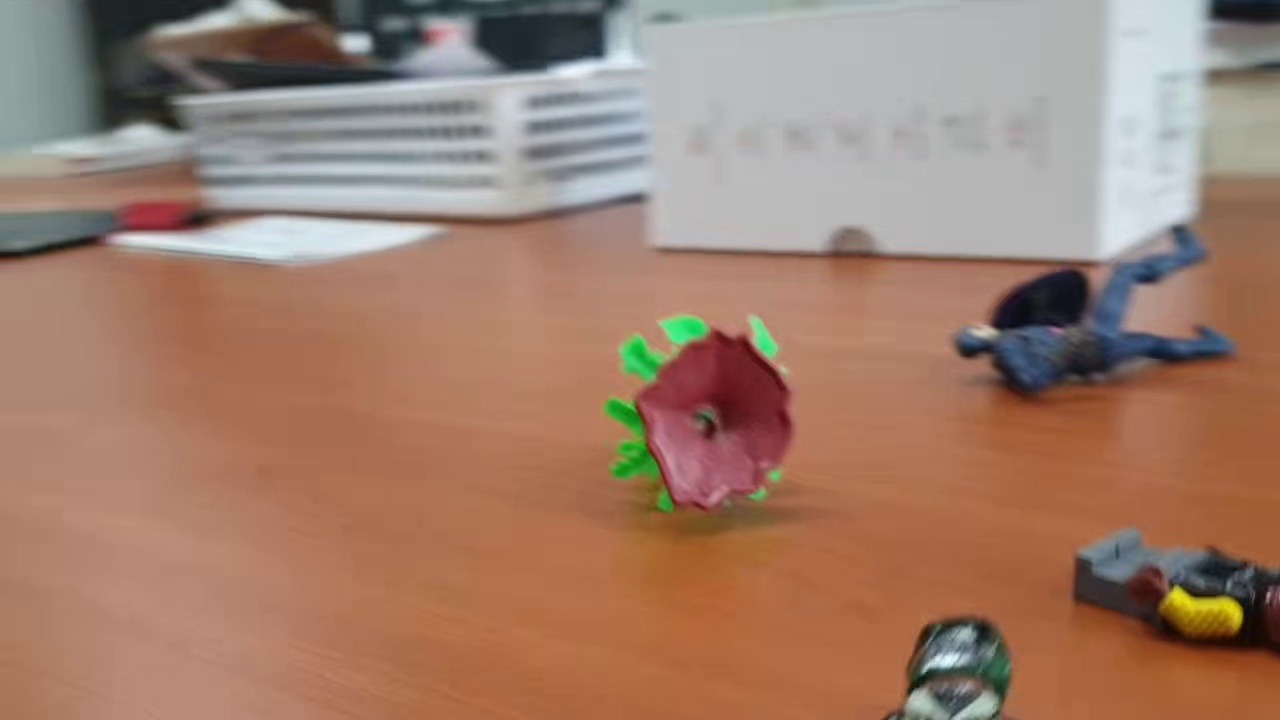people: (952, 221, 1232, 403), (1063, 521, 1280, 653), (886, 612, 1019, 720)
tree: (607, 311, 801, 522)
